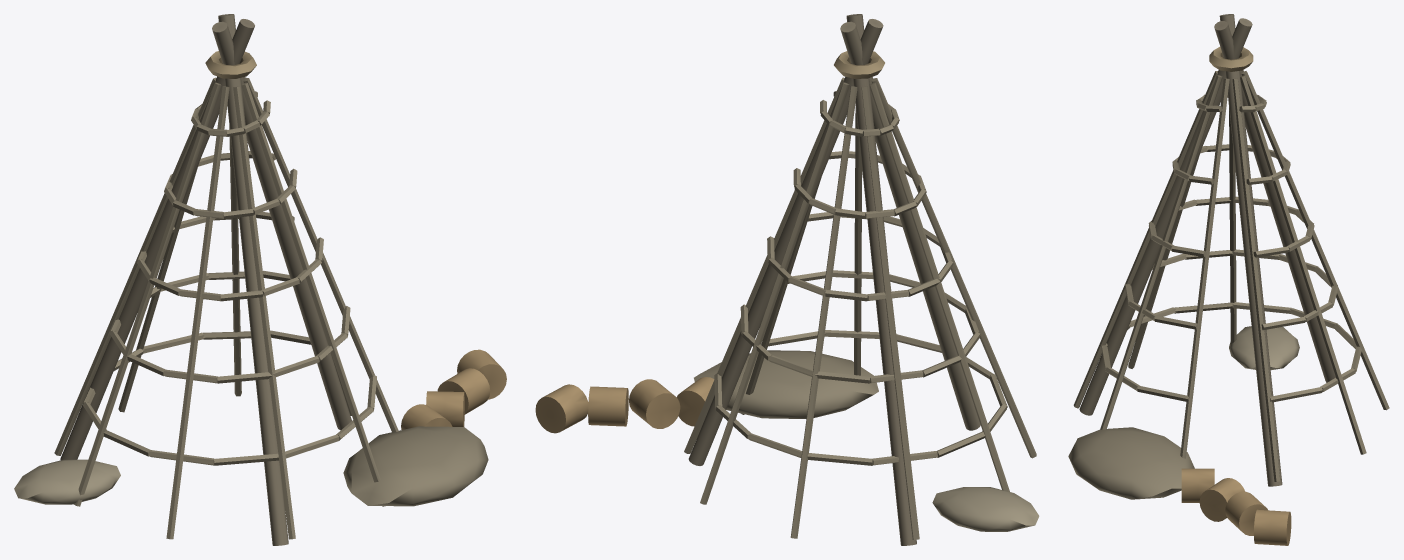
File: drying_tripod_b.glb
The picture shows the model from 3 angles, left to right: view 1: azimuth 30°, elevation 25°; view 2: azimuth 150°, elevation 25°; view 3: azimuth 270°, elevation 25°; orthographic projection. The views are drawn at different scales.
Parts seen in each view (by area): view 1: Surface; view 2: Surface; view 3: Surface.
Part boxes in pixels (x1=…): Surface: x1=14, y1=14, x2=506, y2=545; Surface: x1=535, y1=14, x2=1039, y2=545; Surface: x1=1068, y1=14, x2=1389, y2=545.
Size of the model in its own units: 3.02 by 2.73 by 1.94.
